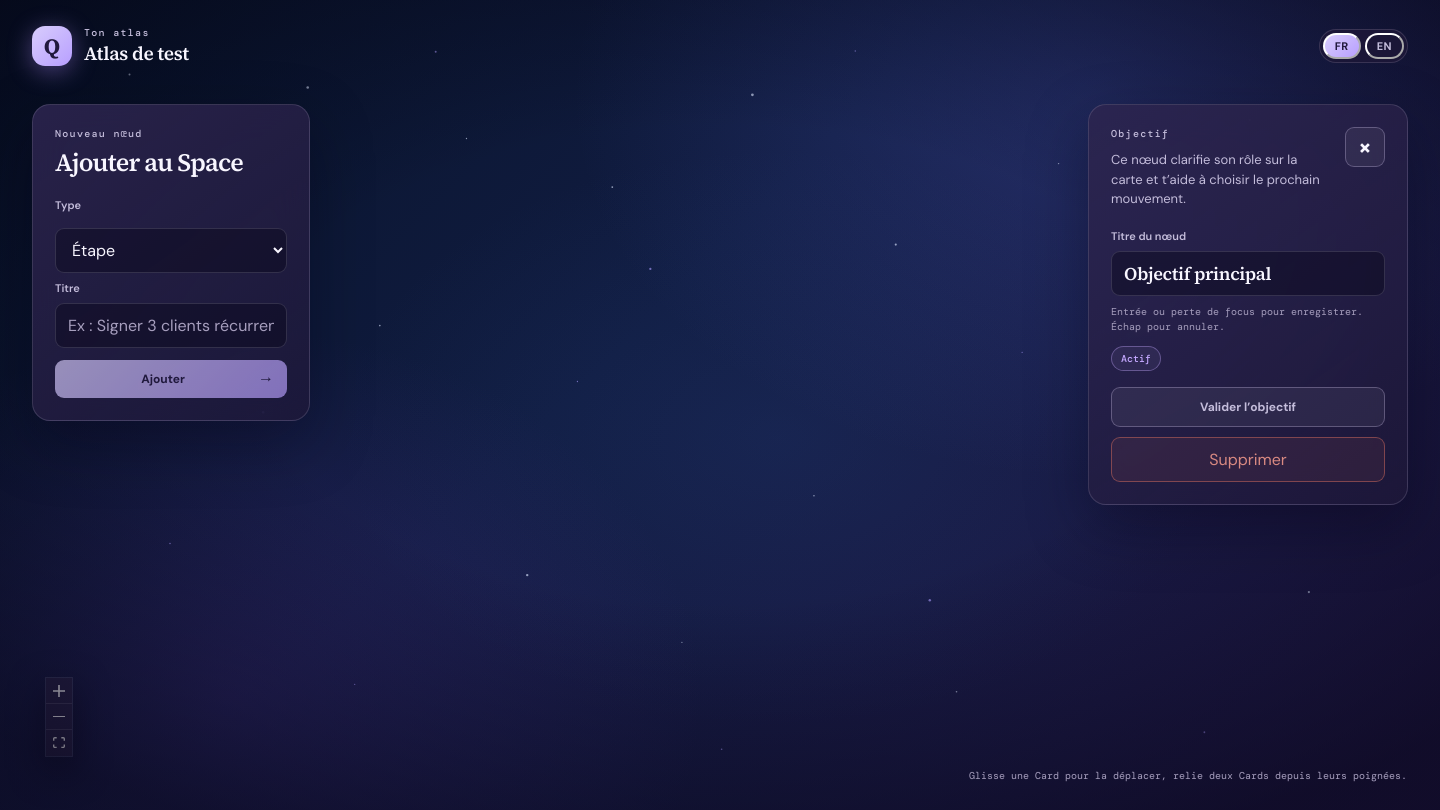
SpaceCanvas inspector rename flow › restores the previous title on Escape without saving
Replace the text in the field labelled "Titre du nœud" with "Titre annulé" at (1248, 273), box [1111,250,1385,296]
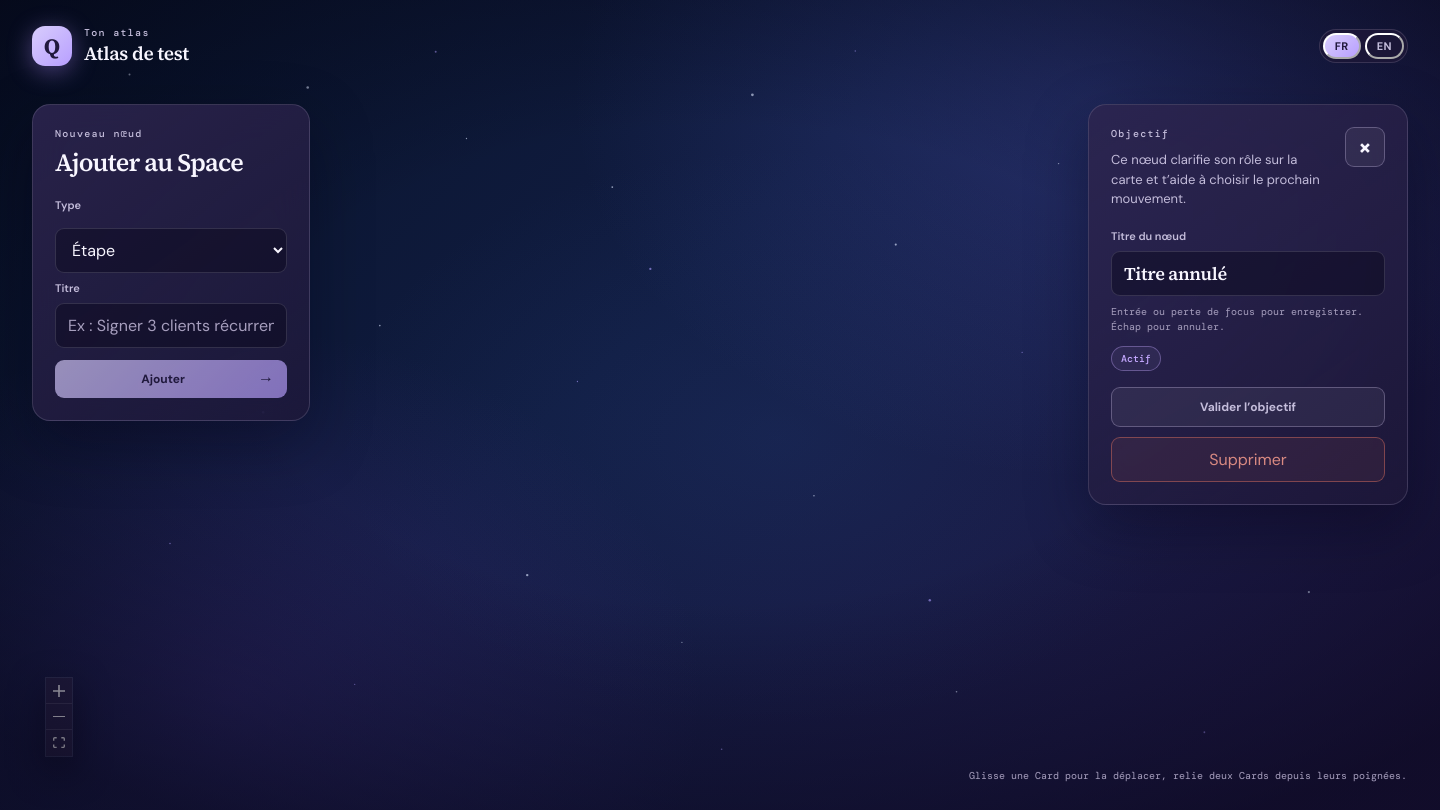
Press Escape in the field labelled "Titre du nœud", box [1111,250,1385,296]
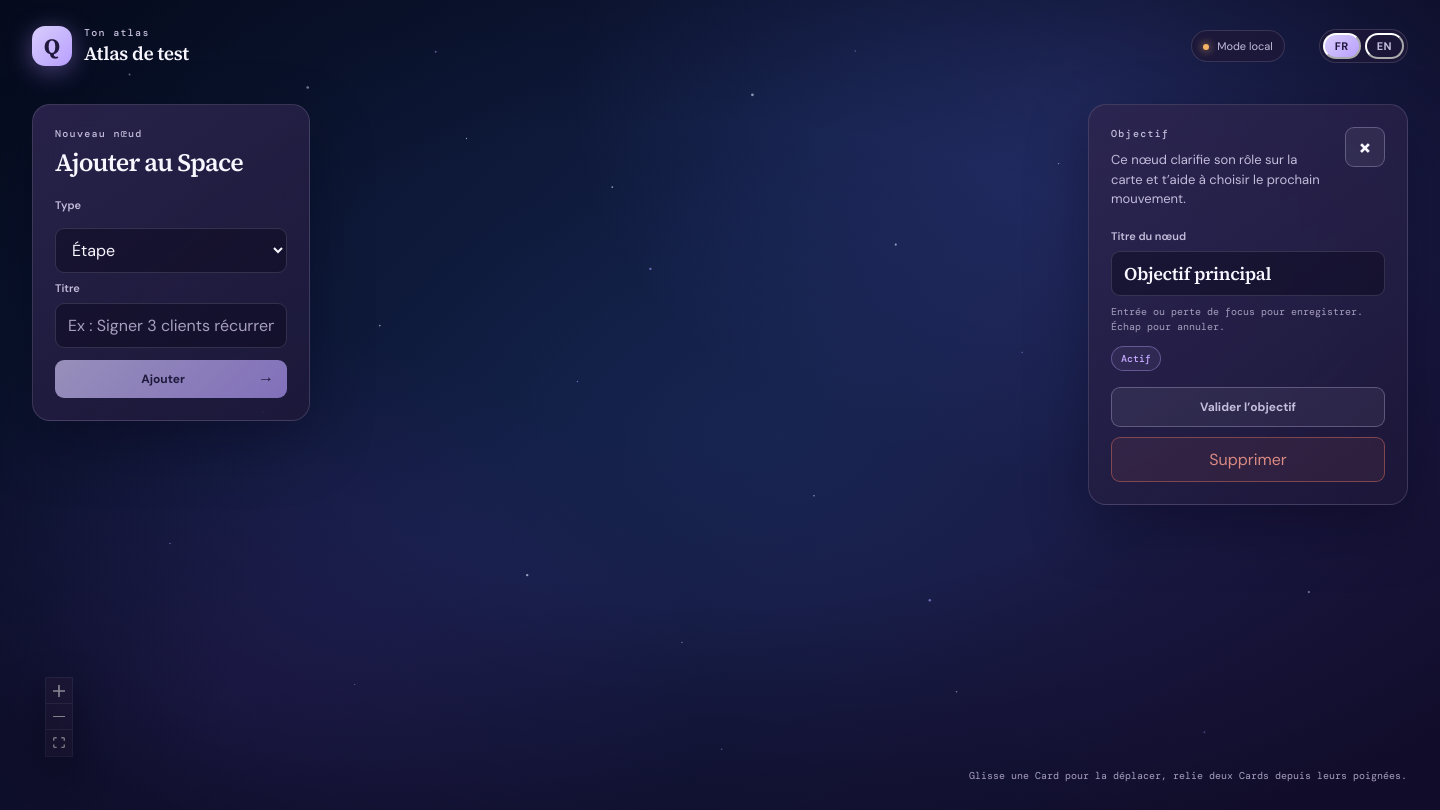
Check: the field labelled "Titre du nœud" holds "Objectif principal", box [1111,250,1385,296]
